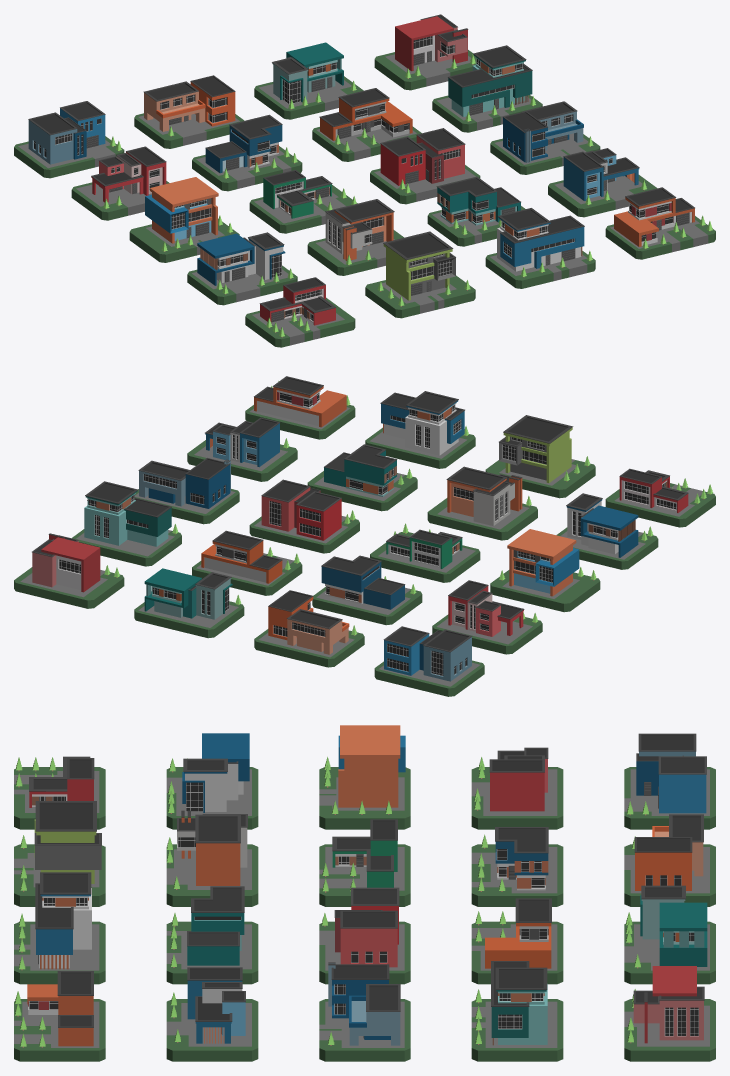
File: city_houses.glb
The picture shows the model from 3 angles, top to bottom: view 1: azimuth 30°, elevation 25°; view 2: azimuth 150°, elevation 25°; view 3: azimuth 270°, elevation 25°; orthographic projection. The views are drawn at different scales.
Visible parts, largest first — view 1: modern_house_4_19, modern_house_4_18, modern_house_4_08, modern_house_4_13, modern_house_4_09, modern_house_4_02, modern_house_4_01, modern_house_4_11, modern_house_4_20, modern_house_4_04, modern_house_4_03, modern_house_4_12 (+8 smaller); view 2: modern_house_4_08, modern_house_4_19, modern_house_4_09, modern_house_4_01, modern_house_4_18, modern_house_4_14, modern_house_4_03, modern_house_4_11, modern_house_4_04, modern_house_4_02, modern_house_4_06, modern_house_4_12 (+8 smaller); view 3: modern_house_4_09, modern_house_4_12, modern_house_4_19, modern_house_4_08, modern_house_4_16, modern_house_4_04, modern_house_4_01, modern_house_4_20, modern_house_4_14, modern_house_4_03, modern_house_4_05, modern_house_4_18 (+8 smaller).
Part boxes in pixels (box(x1,y1,x2,y2)): modern_house_4_19: box(485, 208, 595, 288); modern_house_4_18: box(365, 231, 475, 318); modern_house_4_08: box(432, 45, 542, 132); modern_house_4_13: box(187, 232, 297, 305); modern_house_4_09: box(129, 177, 239, 262); modern_house_4_02: box(134, 75, 244, 148); modern_house_4_01: box(14, 101, 124, 178); modern_house_4_11: box(370, 128, 480, 204); modern_house_4_20: box(605, 187, 715, 259); modern_house_4_04: box(374, 14, 476, 90); modern_house_4_03: box(254, 42, 363, 119); modern_house_4_12: box(490, 101, 600, 174); modern_house_4_08: box(72, 481, 181, 566); modern_house_4_19: box(365, 391, 475, 468); modern_house_4_09: box(490, 529, 600, 612); modern_house_4_01: box(374, 626, 484, 696); modern_house_4_18: box(485, 415, 595, 498); modern_house_4_14: box(427, 466, 537, 540); modern_house_4_03: box(134, 568, 244, 638); modern_house_4_11: box(249, 479, 359, 553); modern_house_4_04: box(14, 533, 124, 608); modern_house_4_02: box(254, 590, 364, 667); modern_house_4_06: box(312, 555, 422, 625); modern_house_4_12: box(134, 458, 239, 524); modern_house_4_09: box(319, 725, 410, 829); modern_house_4_12: box(319, 962, 410, 1061); modern_house_4_19: box(14, 872, 105, 984); modern_house_4_08: box(471, 961, 563, 1061); modern_house_4_16: box(166, 967, 258, 1061); modern_house_4_04: box(624, 966, 715, 1061); modern_house_4_01: box(624, 733, 715, 829); modern_house_4_20: box(14, 971, 105, 1061); modern_house_4_14: box(166, 810, 258, 906); modern_house_4_03: box(624, 885, 715, 984); modern_house_4_05: box(471, 747, 563, 829); modern_house_4_18: box(14, 801, 105, 906).
Size of the model in its own units: 110 by 11.99 by 115.
Materials: 2 (2 with a texture image).
